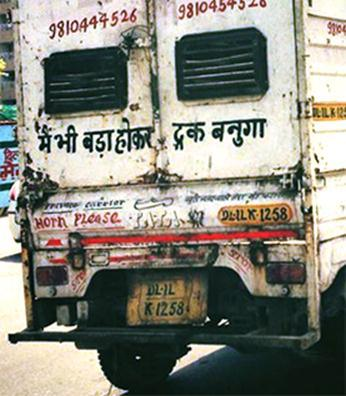number_plate: (123, 269, 210, 325)
